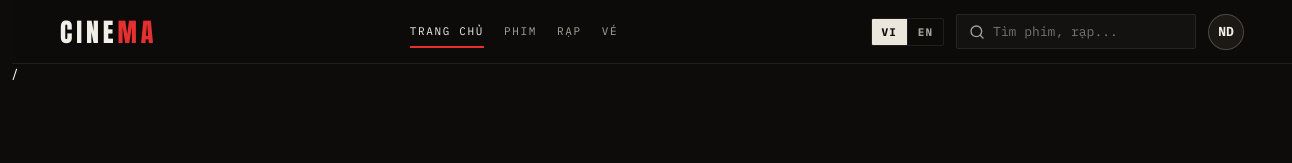
Scenario: Navbar › user thường: avatar viết tắt, menu có Vé của tôi nhưng KHÔNG có Quản trị
Check: the navigation bar is shown, box [12,0,1291,64]
Click the button with aria-label "Tài khoản" at (1226, 32), box [1208,14,1244,50]
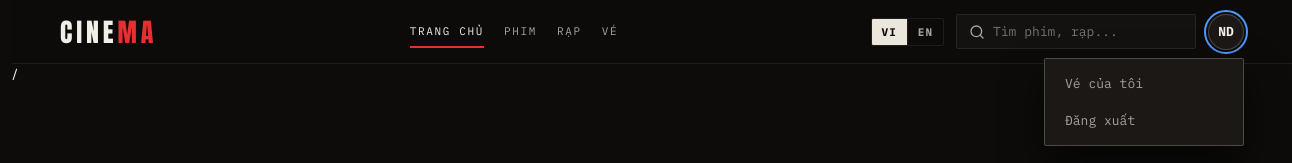
Check: the link "Vé của tôi" is shown, box [1065,74,1143,92]
